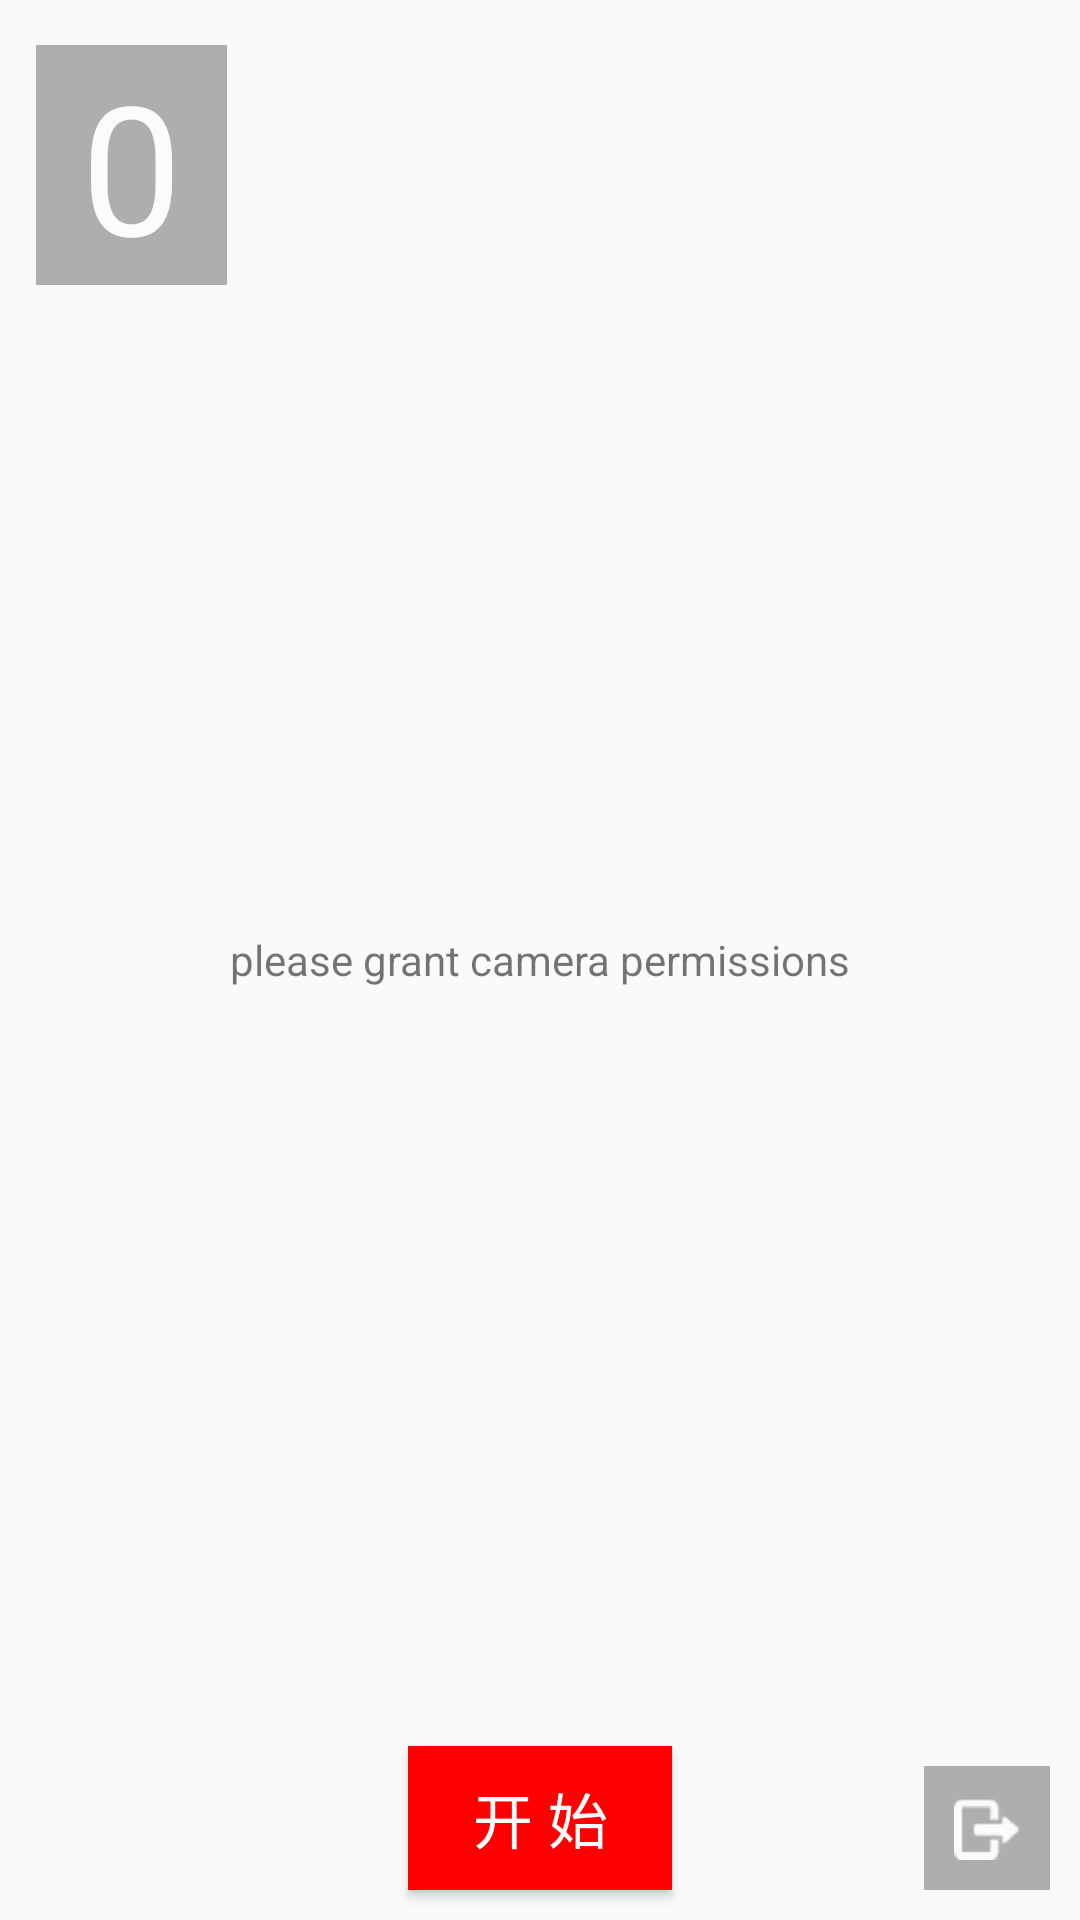

Screen size 1080×1920. Icon name, then its box in pixels as (x1, y1, x2, y2):
exit: (924, 1766, 1050, 1890)
